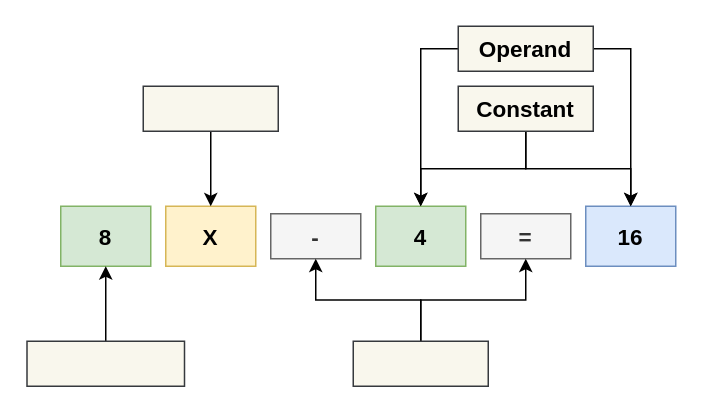
This 702x413 diagram has some shape labels left out. Here are the shapes that lost their labels. From the top down, the centre of each, then its label:
At (210,108): "Variable".
At (105,363): "Coefficient".
At (420,363): "Operator".
